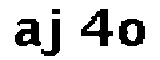4: (77, 4, 115, 49)
a: (13, 16, 44, 48)
j: (43, 7, 70, 59)
o: (116, 16, 150, 50)
